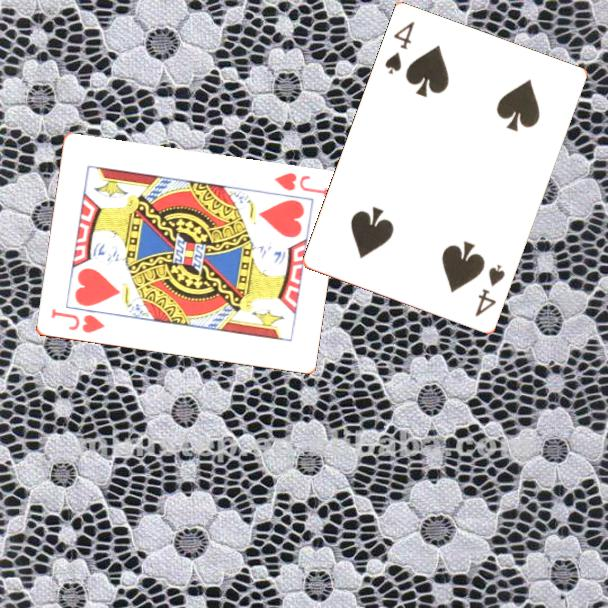h11: (47, 305, 107, 336), (270, 169, 330, 200)
s04: (381, 18, 418, 78), (472, 261, 508, 320)
